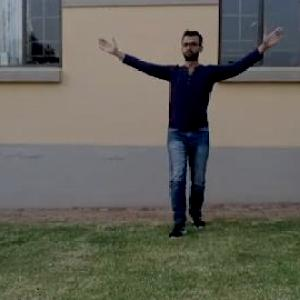takeoff: (99, 26, 279, 228)
